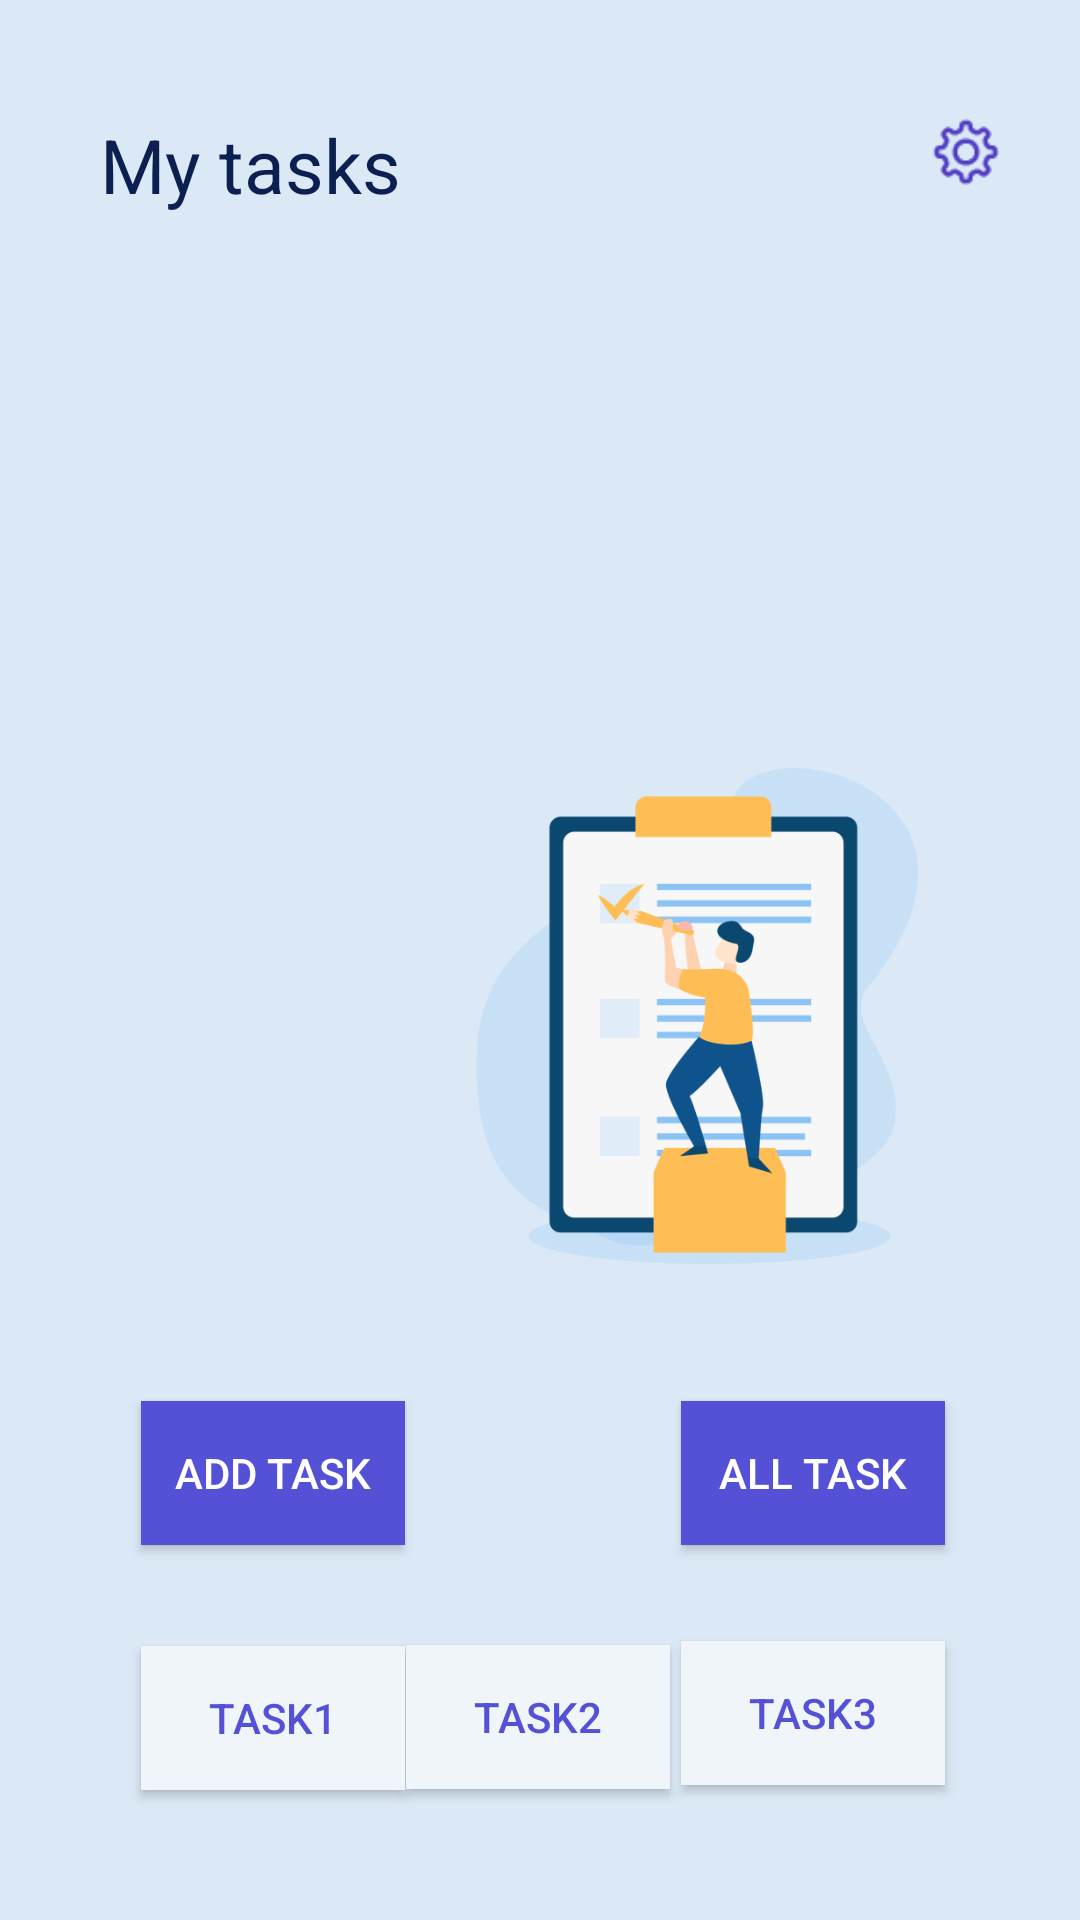

Screen size 1080w x 1920h. Icon name, then its box in pixels as {"x1": x1, "y1": y1, "x2": x2, "y2": y2}:
settings: {"x1": 933, "y1": 119, "x2": 999, "y2": 185}
